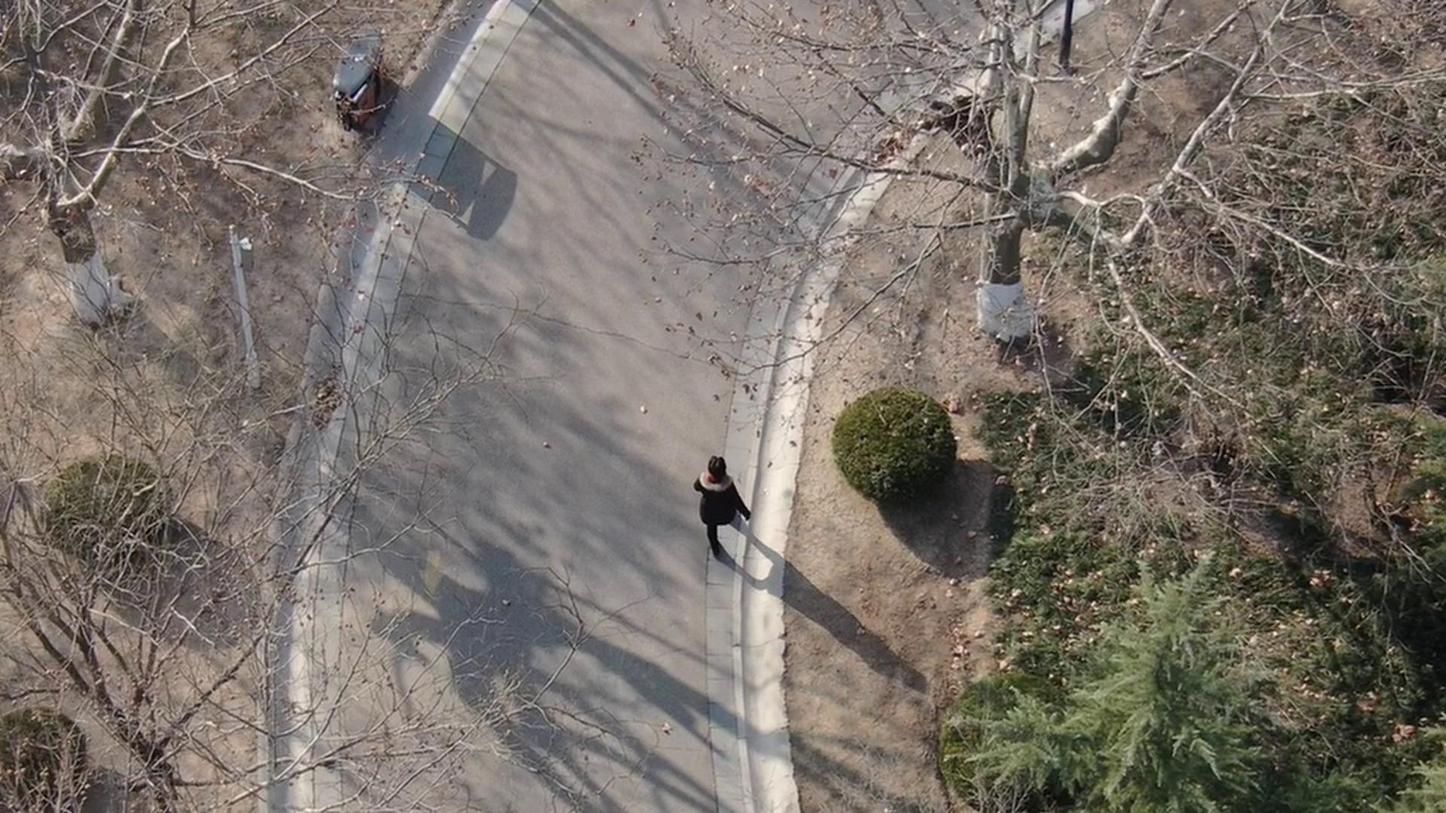human: (709, 457, 772, 551)
